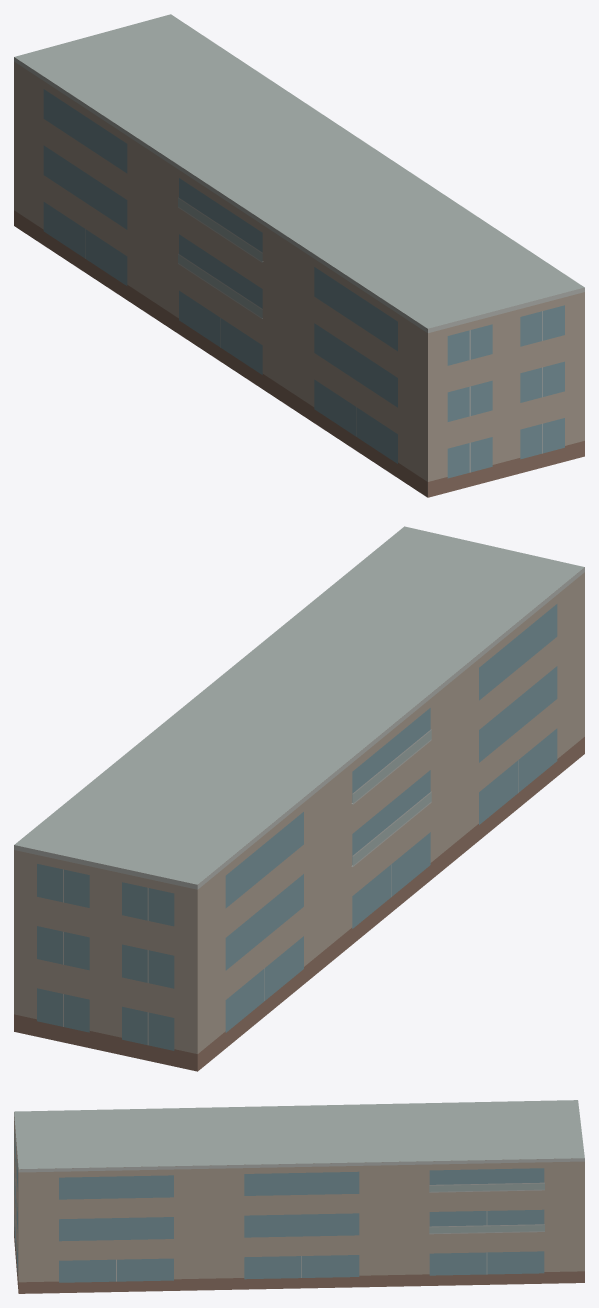
File: survey-upis-32981908.glb
3 renders of one model, top to bottom at view 1: azimuth 30°, elevation 25°; view 2: azimuth 150°, elevation 25°; view 3: azimuth 270°, elevation 25°, orthographic. The views are drawn at different scales.
Visible parts, largest first — view 1: survey-upis-32981908.tmp; view 2: survey-upis-32981908.tmp; view 3: survey-upis-32981908.tmp.
Boxes of the visible parts, x1,y1,x2,y2 form: survey-upis-32981908.tmp: (14,14,584,497); survey-upis-32981908.tmp: (14,526,584,1071); survey-upis-32981908.tmp: (14,1100,584,1293).
Bounding box in the file's own units: 10.89 × 9.15 × 37.96.
